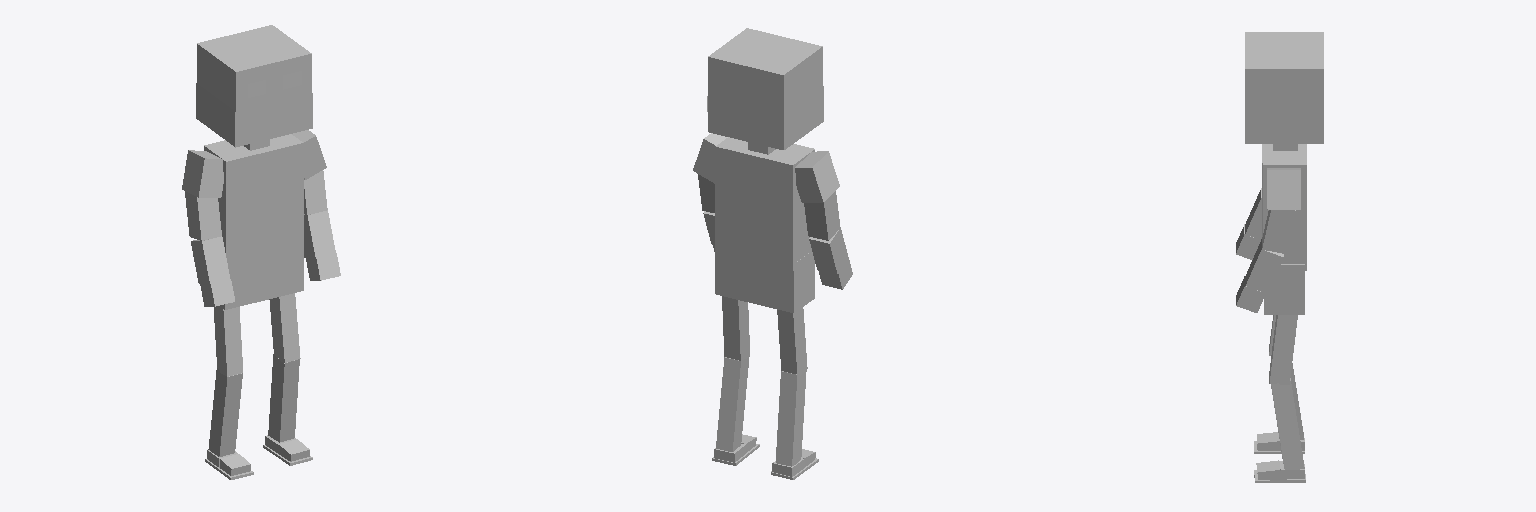
3 views of the same model, side by side, from view 1: azimuth 30°, elevation 25°; view 2: azimuth 150°, elevation 25°; view 3: azimuth 270°, elevation 25° (orthographic).
Visible parts, largest first — view 1: Torso_Material.011, Head_Material.003, waist_Material.014, Mask_1_Material.023, Left_leg_1_Material.017, Right_leg_1_Material.018, Left_leg_2_Material.015, Right_leg_2_Material.016, Left_arm_1_Material.013, Left_arm_3_Material.009, Mask_4_Material.026, Left_arm_2_Material.008 (+5 smaller); view 2: Torso_Material.011, Head_Material.003, waist_Material.014, Mask_3_Material.025, Left_leg_1_Material.017, Right_leg_1_Material.018, Left_arm_1_Material.013, Left_leg_2_Material.015, Right_leg_2_Material.016, Mask_4_Material.026, Left_arm_2_Material.008, Left_arm_3_Material.009 (+1 smaller); view 3: Head_Material.003, Mask_2_Material.024, Torso_Material.011, Right_leg_1_Material.018, waist_Material.014, Right_leg_2_Material.016, Right_arm_1_Material.012, Right_arm_3_Material.006, Right_arm_2_Material.007, Right_hand_Material.005, Left_arm_3_Material.009.
Boxes of the visible parts, x1,y1,x2,y2 form: Torso_Material.011: [204, 134, 303, 266]; Head_Material.003: [197, 25, 311, 111]; waist_Material.014: [220, 249, 303, 309]; Mask_1_Material.023: [235, 93, 312, 147]; Left_leg_1_Material.017: [208, 368, 242, 456]; Right_leg_1_Material.018: [268, 354, 299, 442]; Left_leg_2_Material.015: [214, 306, 242, 376]; Right_leg_2_Material.016: [269, 293, 300, 362]; Left_arm_1_Material.013: [182, 150, 223, 197]; Left_arm_3_Material.009: [191, 236, 229, 283]; Mask_4_Material.026: [196, 83, 234, 146]; Left_arm_2_Material.008: [185, 191, 221, 240]; Torso_Material.011: [715, 137, 814, 270]; Head_Material.003: [708, 28, 822, 149]; waist_Material.014: [715, 251, 814, 312]; Mask_3_Material.025: [708, 97, 782, 149]; Left_leg_1_Material.017: [776, 370, 806, 466]; Right_leg_1_Material.018: [716, 356, 749, 451]; Left_arm_1_Material.013: [795, 151, 839, 202]; Left_leg_2_Material.015: [777, 308, 807, 375]; Right_leg_2_Material.016: [722, 296, 749, 360]; Mask_4_Material.026: [784, 86, 823, 149]; Left_arm_2_Material.008: [804, 191, 840, 240]; Left_arm_3_Material.009: [809, 228, 848, 274]; Head_Material.003: [1245, 32, 1323, 107]; Mask_2_Material.024: [1245, 108, 1323, 143]; Torso_Material.011: [1262, 144, 1306, 270]; Right_leg_1_Material.018: [1271, 378, 1304, 469]; waist_Material.014: [1264, 264, 1304, 314]; Right_leg_2_Material.016: [1269, 315, 1297, 384]; Right_arm_1_Material.012: [1267, 168, 1300, 209]; Right_arm_3_Material.006: [1245, 239, 1283, 293]; Right_arm_2_Material.007: [1262, 210, 1295, 253]; Right_hand_Material.005: [1236, 276, 1265, 312]; Left_arm_3_Material.009: [1245, 188, 1261, 239].
Bounding box in the file's own units: 1.16 × 3.5 × 0.6831.